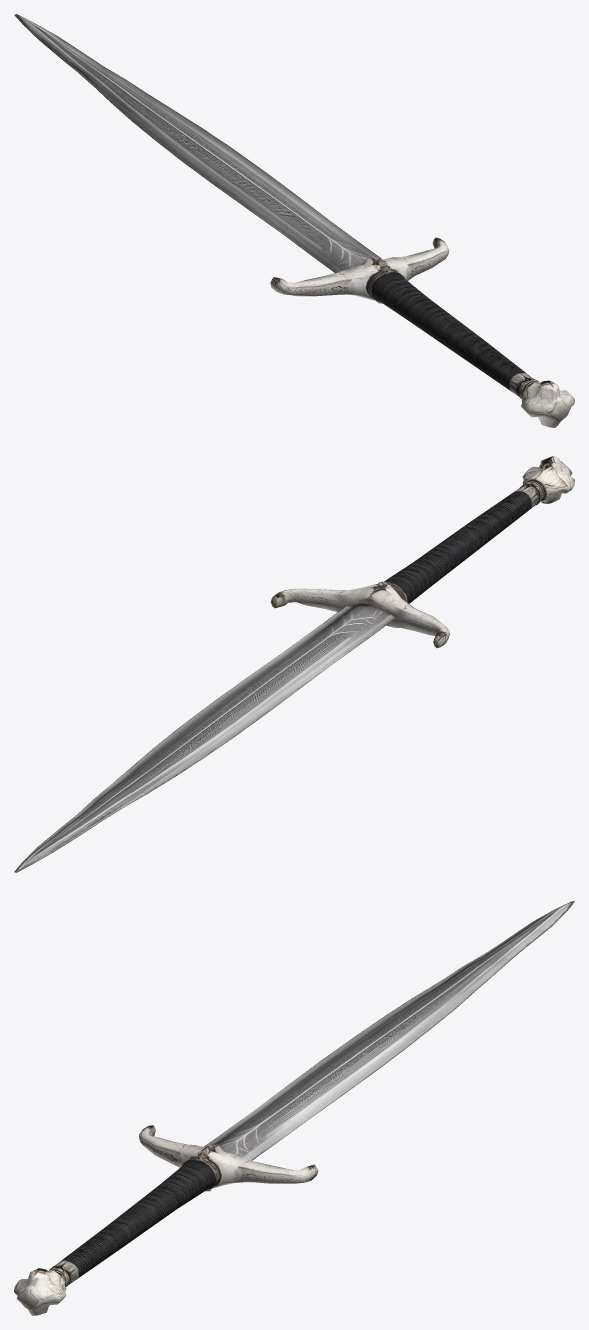
File: arborblade_sword.glb
3 renders of one model, top to bottom at view 1: azimuth 30°, elevation 25°; view 2: azimuth 150°, elevation 25°; view 3: azimuth 330°, elevation 25°, orthographic.
Visible parts, largest first — view 1: ArborbladeSword; view 2: ArborbladeSword; view 3: ArborbladeSword.
Part boxes in pixels (x1=…): ArborbladeSword: x1=14, y1=14, x2=574, y2=427; ArborbladeSword: x1=14, y1=456, x2=574, y2=872; ArborbladeSword: x1=14, y1=901, x2=574, y2=1315.
Size of the model in its own units: 0.1792 by 0.048 by 0.998.
Materials: 1 (1 with a texture image).
